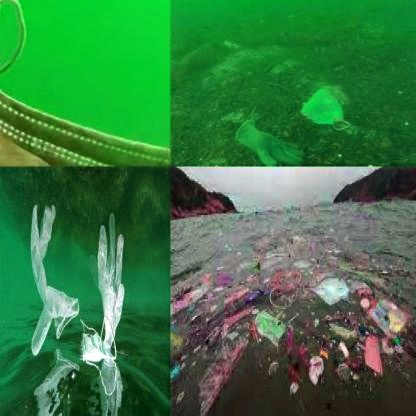Mask: (0, 0, 170, 166), (298, 79, 351, 137), (81, 316, 117, 370), (254, 309, 286, 348)
glove: (29, 201, 80, 358), (90, 211, 125, 333), (222, 123, 313, 166)
